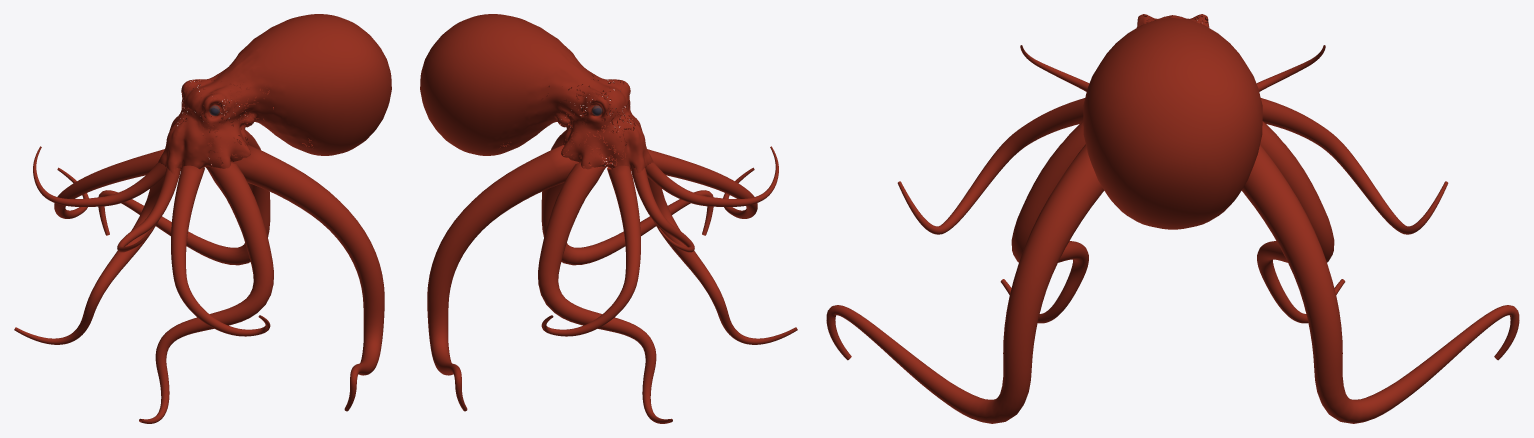
File: octopus.glb
3 renders of one model, left to right at view 1: azimuth 30°, elevation 25°; view 2: azimuth 150°, elevation 25°; view 3: azimuth 270°, elevation 25°, orthographic. The views are drawn at different scales.
Visible parts, largest first — view 1: Sphere, Body.001, Body.002, Body.003, Body.004; view 2: Sphere, Body.001, Body.002, Body.003, Body.004; view 3: Sphere, Body.001, Body.002, Body.003, Body.004.
Boxes of the visible parts, bbox=[...] form: Sphere: bbox=[158, 14, 391, 174]; Body.001: bbox=[98, 123, 384, 411]; Body.002: bbox=[14, 161, 273, 423]; Body.003: bbox=[54, 149, 270, 336]; Body.004: bbox=[33, 146, 180, 252]; Sphere: bbox=[420, 14, 653, 172]; Body.001: bbox=[427, 123, 713, 411]; Body.002: bbox=[538, 133, 797, 423]; Body.003: bbox=[541, 149, 757, 336]; Body.004: bbox=[631, 146, 778, 252]; Sphere: bbox=[1083, 14, 1262, 229]; Body.001: bbox=[826, 144, 1519, 423]; Body.002: bbox=[1000, 121, 1345, 323]; Body.003: bbox=[897, 98, 1448, 234]; Body.004: bbox=[1020, 45, 1325, 91].
Bounding box in the file's own units: 15.38 × 14.91 × 22.23.
